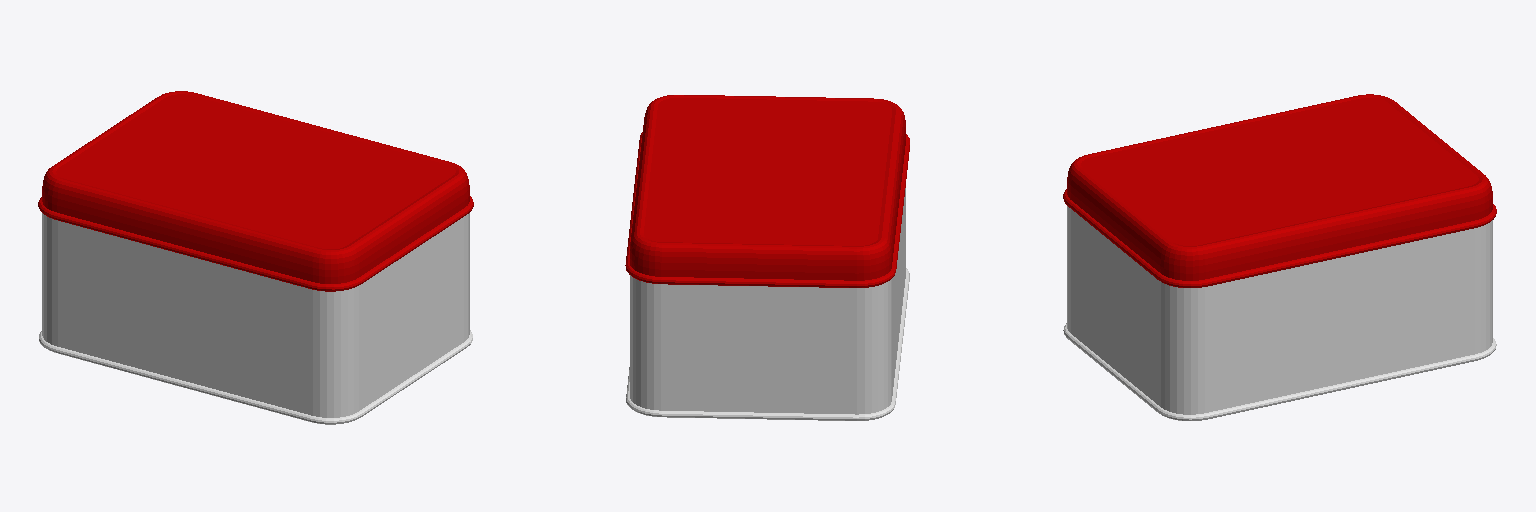
The model's file is lunchbox.obj.
3 views of the same model, side by side, from view 1: azimuth 30°, elevation 25°; view 2: azimuth 150°, elevation 25°; view 3: azimuth 270°, elevation 25° (orthographic).
Visible parts, largest first — view 1: Rectangle005, Rectangle008, Rectangle007, Rectangle006; view 2: Rectangle008, Rectangle005, Rectangle007, Rectangle006; view 3: Rectangle005, Rectangle008, Rectangle007, Rectangle006.
Boxes of the visible parts, x1=… form: Rectangle005: x1=42, y1=213, x2=469, y2=417; Rectangle008: x1=42, y1=91, x2=469, y2=283; Rectangle007: x1=38, y1=196, x2=473, y2=291; Rectangle006: x1=39, y1=330, x2=472, y2=424; Rectangle008: x1=630, y1=95, x2=905, y2=280; Rectangle005: x1=630, y1=188, x2=905, y2=414; Rectangle007: x1=625, y1=132, x2=909, y2=287; Rectangle006: x1=626, y1=268, x2=909, y2=420; Rectangle005: x1=1067, y1=206, x2=1492, y2=414; Rectangle008: x1=1067, y1=94, x2=1492, y2=280; Rectangle007: x1=1063, y1=189, x2=1496, y2=287; Rectangle006: x1=1063, y1=323, x2=1496, y2=420.
Size of the model in its own units: 23.07 by 11.14 by 25.82.